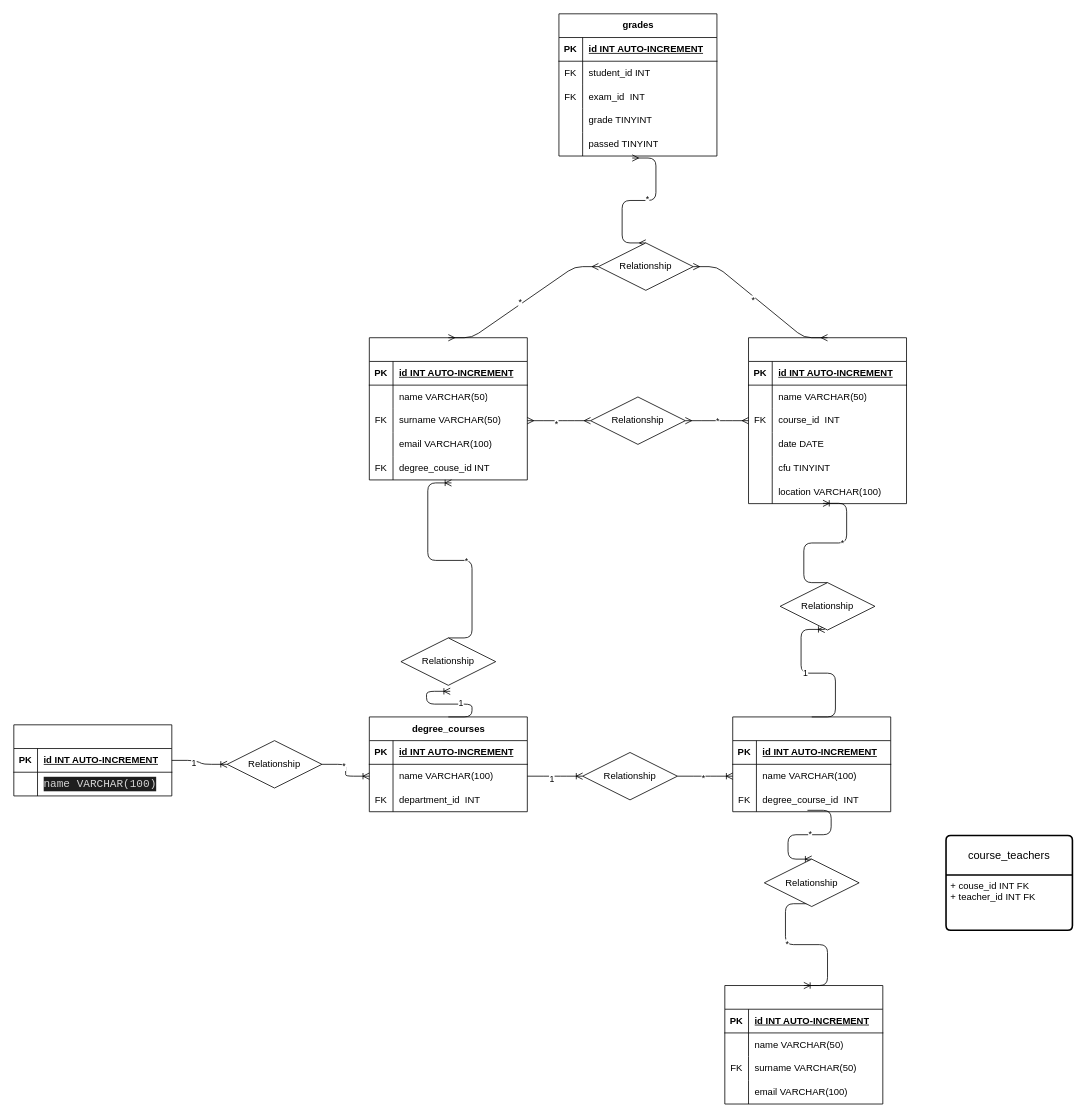
The diagram is 1087 pixels wide and 1118 high, and some of its shapes have lost their labels. Each missing label, with the box of its shape:
courses: (732, 716, 891, 812)
departments: (13, 724, 172, 796)
exams: (748, 337, 907, 504)
students: (369, 337, 527, 480)
teachers: (724, 985, 883, 1104)
